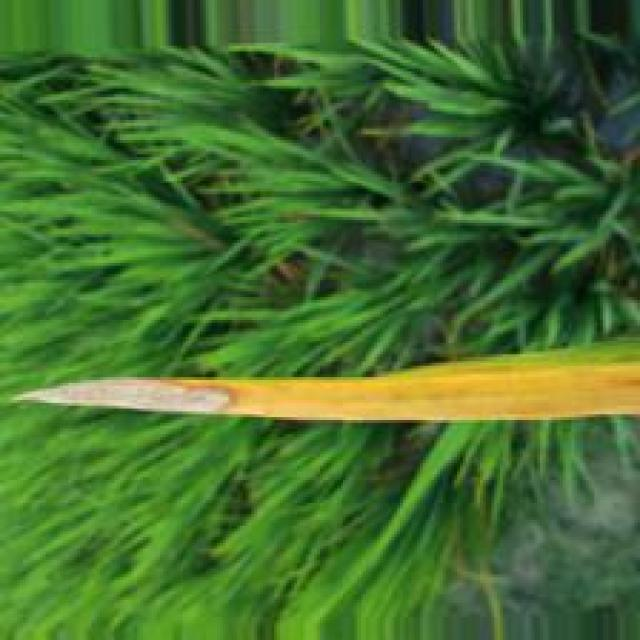Leaf_Scald: (48, 380, 244, 413)
